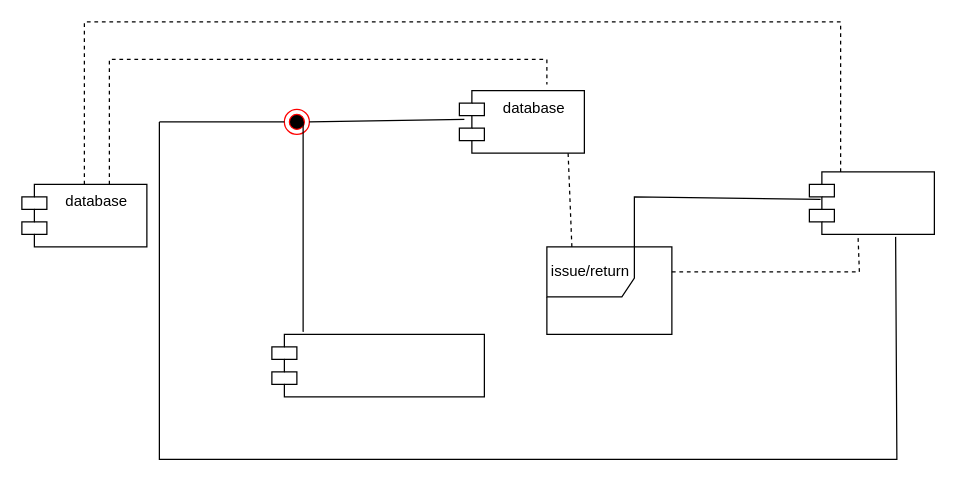
The diagram is 956 pixels wide and 483 high, and some of its shapes have lost their labels. The shapes that lost their labels are listed below. From the top down, each one's box as (x1, y1, x2, y2) in pixels, then its label:
(808, 171, 934, 234): student
(271, 333, 484, 397): search/add/remove book
